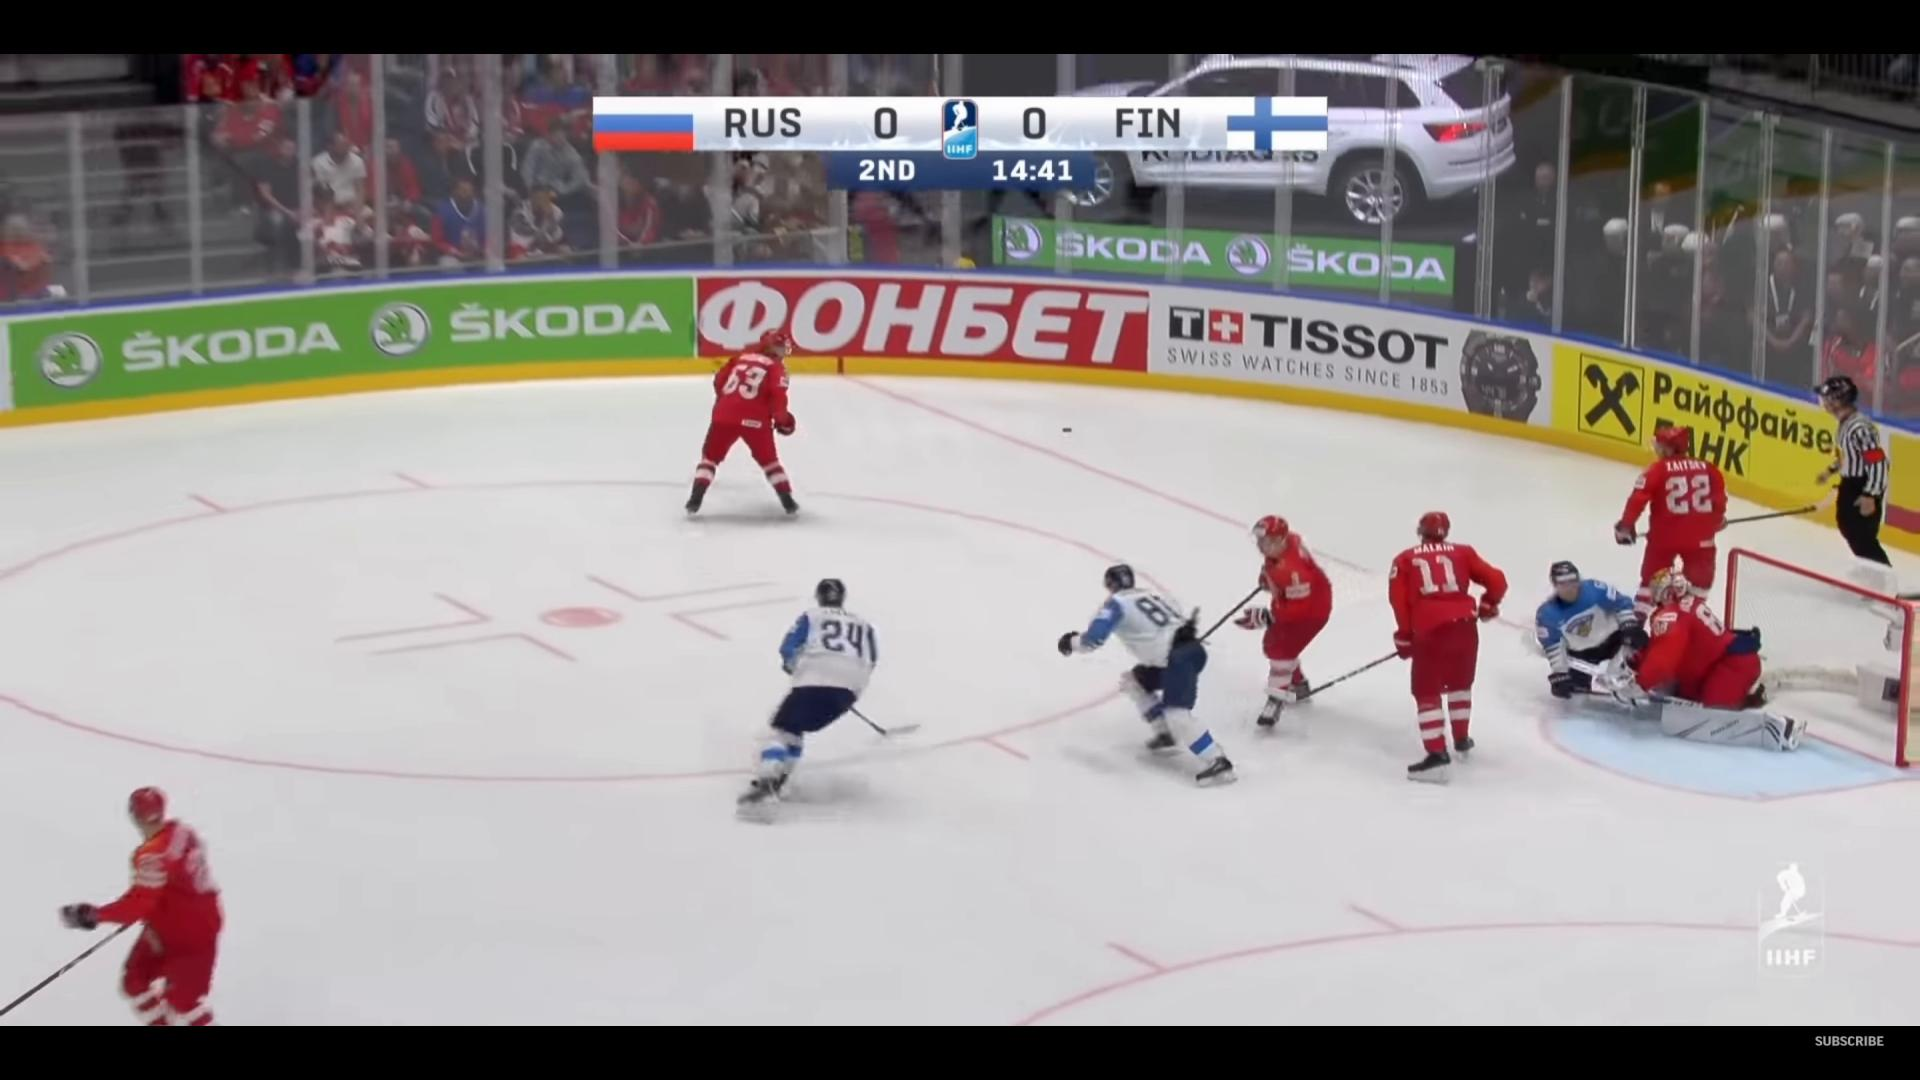puck: (1062, 427, 1072, 433)
